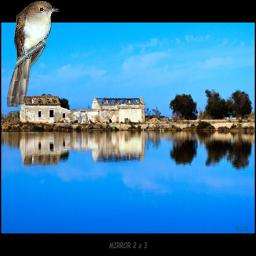Cuckoo: (7, 0, 59, 107)
